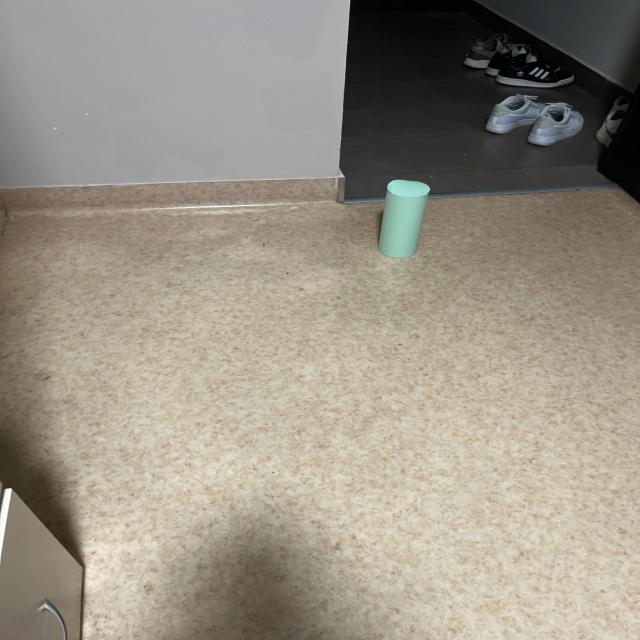meta: (378, 180, 430, 258)
